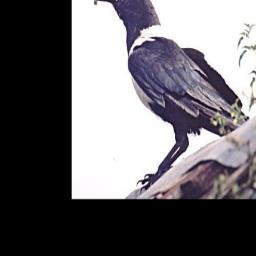Crow: (93, 0, 255, 191)
